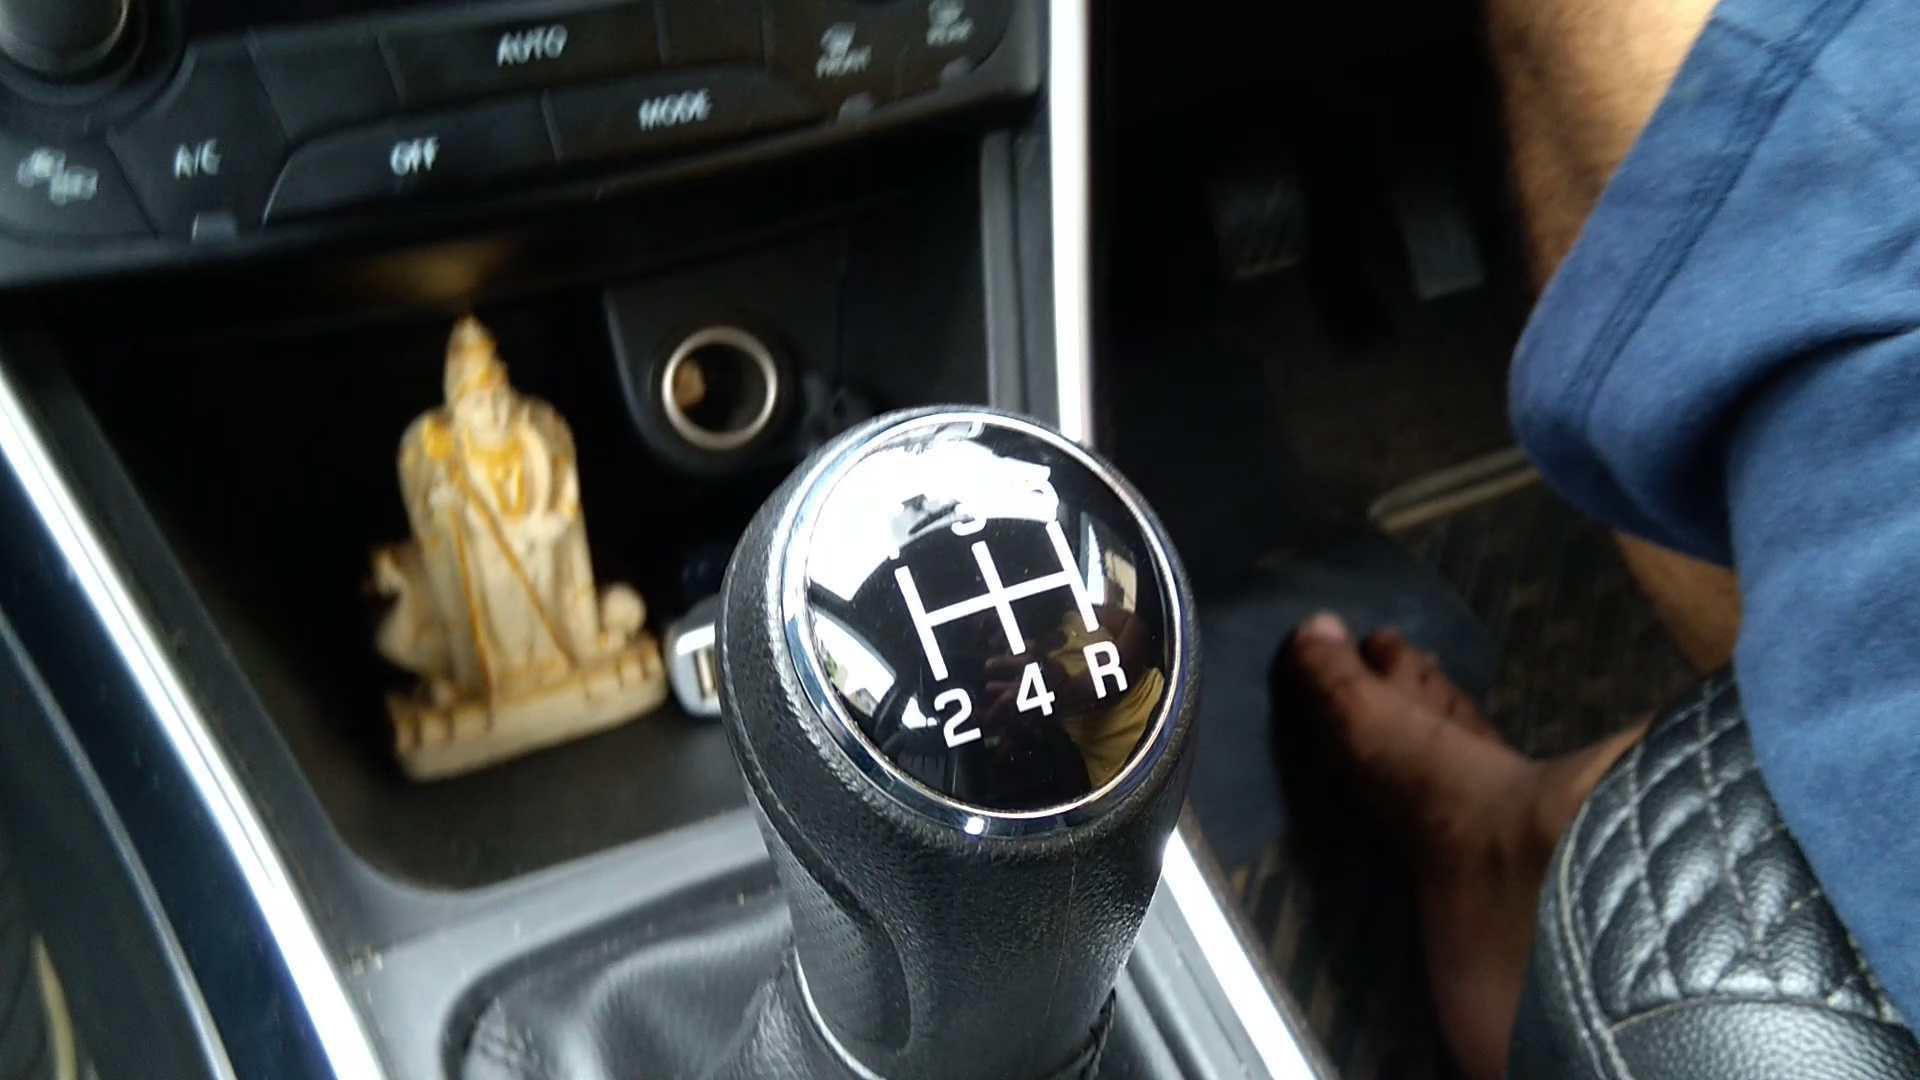manual_gear: (713, 392, 1216, 1080)
